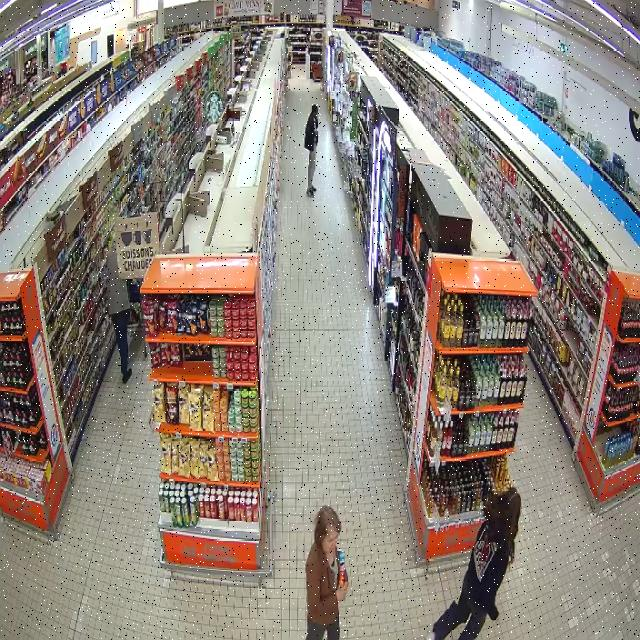article: (337, 549, 345, 589), (314, 136, 318, 148)
hands: (336, 584, 348, 604), (489, 606, 499, 621), (314, 131, 319, 136)
person: (427, 487, 520, 639), (305, 506, 347, 639), (106, 244, 132, 383), (305, 104, 317, 197)
